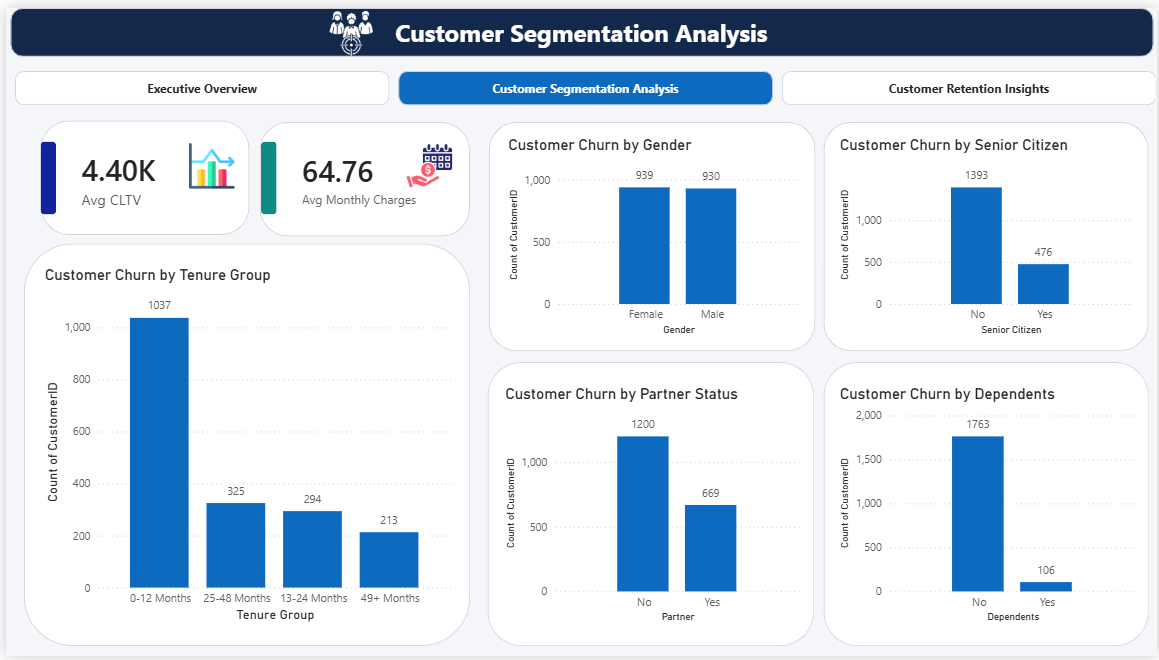

Layout of this report page (visuals, bound fields, positions):
{"tool":"powerbi","page":{"name":"Customer Segmentation Analysis","canvas":[1280,720],"ordinal":1},"visuals":[{"type":"shape","box":[908.6,392.9,361.4,315.7],"z":0,"group":"g8"},{"type":"shape","box":[535.7,392.9,362.9,315.7],"z":1000,"group":"g7"},{"type":"shape","box":[908.2,127.2,361.1,254.5],"z":2000,"group":"g6"},{"type":"shape","box":[536,127.2,362.7,254.5],"z":3000,"group":"g5"},{"type":"shape","box":[20,261.4,495.7,447.1],"z":4000,"group":"g4"},{"type":"shape","box":[281.5,127.2,233.8,127.2],"z":5000,"group":"g3"},{"type":"cardVisual","fields":{"Data":["Telco_Churn.Avg Monthly Charges"]},"box":[300.6,138.3,197.2,103.4],"z":6000,"group":"g3"},{"type":"clusteredColumnChart","title":"Customer Churn by Gender","fields":{"Category":["Telco_Churn.Gender"],"Y":["CountNonNull(Telco_Churn.CustomerID)"]},"box":[551.9,141.5,332.4,225.9],"z":7000,"group":"g5"},{"type":"clusteredColumnChart","title":"Customer Churn by Senior Citizen","fields":{"Category":["Telco_Churn.Senior Citizen"],"Y":["CountNonNull(Telco_Churn.CustomerID)"]},"box":[920.9,141.5,334,225.9],"z":8000,"group":"g6"},{"type":"clusteredColumnChart","title":"Customer Churn by Partner Status","fields":{"Category":["Telco_Churn.Partner"],"Y":["CountNonNull(Telco_Churn.CustomerID)"]},"box":[551.4,417.2,337.1,268.6],"z":9000,"group":"g7"},{"type":"clusteredColumnChart","title":"Customer Churn by Dependents","fields":{"Category":["Telco_Churn.Dependents"],"Y":["CountNonNull(Telco_Churn.CustomerID)"]},"box":[921.5,417.2,338.6,268.6],"z":10000,"group":"g8"},{"type":"clusteredColumnChart","title":"Customer Churn by Tenure Group","fields":{"Category":["Telco_Churn.Tenure Group"],"Y":["CountNonNull(Telco_Churn.CustomerID)"]},"box":[38.6,285.7,461.4,400],"z":11000,"group":"g4"},{"type":"shape","box":[5,0,1270,54],"z":12000,"group":"g1"},{"type":"textbox","box":[413.6,3.2,451.7,47.7],"z":13000,"group":"g1"},{"type":"shape","box":[38.2,125.7,232.2,127.2],"z":14000,"group":"g2"},{"type":"cardVisual","fields":{"Data":["Telco_Churn.Avg CLTV"]},"box":[55.7,138.4,198.8,103.4],"z":15000,"group":"g2"},{"type":"shape","box":[38.2,149.6,17.5,81.1],"z":16000,"group":"g2"},{"type":"shape","box":[283.1,149.5,17.5,81.1],"z":17000,"group":"g3"},{"type":"pageNavigator","box":[9.5,70,1270.9,38.2],"z":18000},{"type":"image","box":[202.6,149.9,50.6,50.6],"z":18001,"group":"g2"},{"type":"image","box":[445.5,149.8,50.6,50.6],"z":18002,"group":"g3"},{"type":"image","box":[352.9,2.9,60,50],"z":18003,"group":"g1"},{"type":"group","id":"g1","title":"Group 1","box":[5,0,1270,54],"z":18004},{"type":"group","id":"g2","title":"Group 2","box":[38.2,125.7,232.2,127.2],"z":18005},{"type":"group","id":"g3","title":"Group 3","box":[281.5,127.2,233.8,127.2],"z":18006},{"type":"group","id":"g4","title":"Group 4","box":[20,261.4,495.7,447.1],"z":18007},{"type":"group","id":"g5","title":"Group 5","box":[536,127.2,362.7,254.5],"z":18008},{"type":"group","id":"g6","title":"Group 6","box":[908.2,127.2,361.1,254.5],"z":18009},{"type":"group","id":"g7","title":"Group 7","box":[535.7,392.9,362.9,315.7],"z":18010},{"type":"group","id":"g8","title":"Group 8","box":[908.6,392.9,361.4,315.7],"z":18011}]}

Visuals, with their boxes in screenshot pixels (x1, y1, x2, y2), scaled from the page's 1280x720 canvas onto the 1159x660 screenshot:
shape: 823/360/1150/650
shape: 485/360/814/650
shape: 822/117/1149/350
shape: 485/117/814/350
shape: 18/240/467/649
shape: 255/117/467/233
cardVisual - Telco_Churn.Avg Monthly Charges: 272/127/451/222
"Customer Churn by Gender" clusteredColumnChart: 500/130/801/337
"Customer Churn by Senior Citizen" clusteredColumnChart: 834/130/1136/337
"Customer Churn by Partner Status" clusteredColumnChart: 499/382/805/629
"Customer Churn by Dependents" clusteredColumnChart: 834/382/1141/629
"Customer Churn by Tenure Group" clusteredColumnChart: 35/262/453/629
shape: 5/0/1154/50
textbox: 375/3/784/47
shape: 35/115/245/232
cardVisual - Telco_Churn.Avg CLTV: 50/127/230/222
shape: 35/137/50/211
shape: 256/137/272/211
pageNavigator: 9/64/1158/99
image: 183/137/229/184
image: 403/137/449/184
image: 320/3/374/48
"Group 1" group: 5/0/1154/50
"Group 2" group: 35/115/245/232
"Group 3" group: 255/117/467/233
"Group 4" group: 18/240/467/649
"Group 5" group: 485/117/814/350
"Group 6" group: 822/117/1149/350
"Group 7" group: 485/360/814/650
"Group 8" group: 823/360/1150/650
